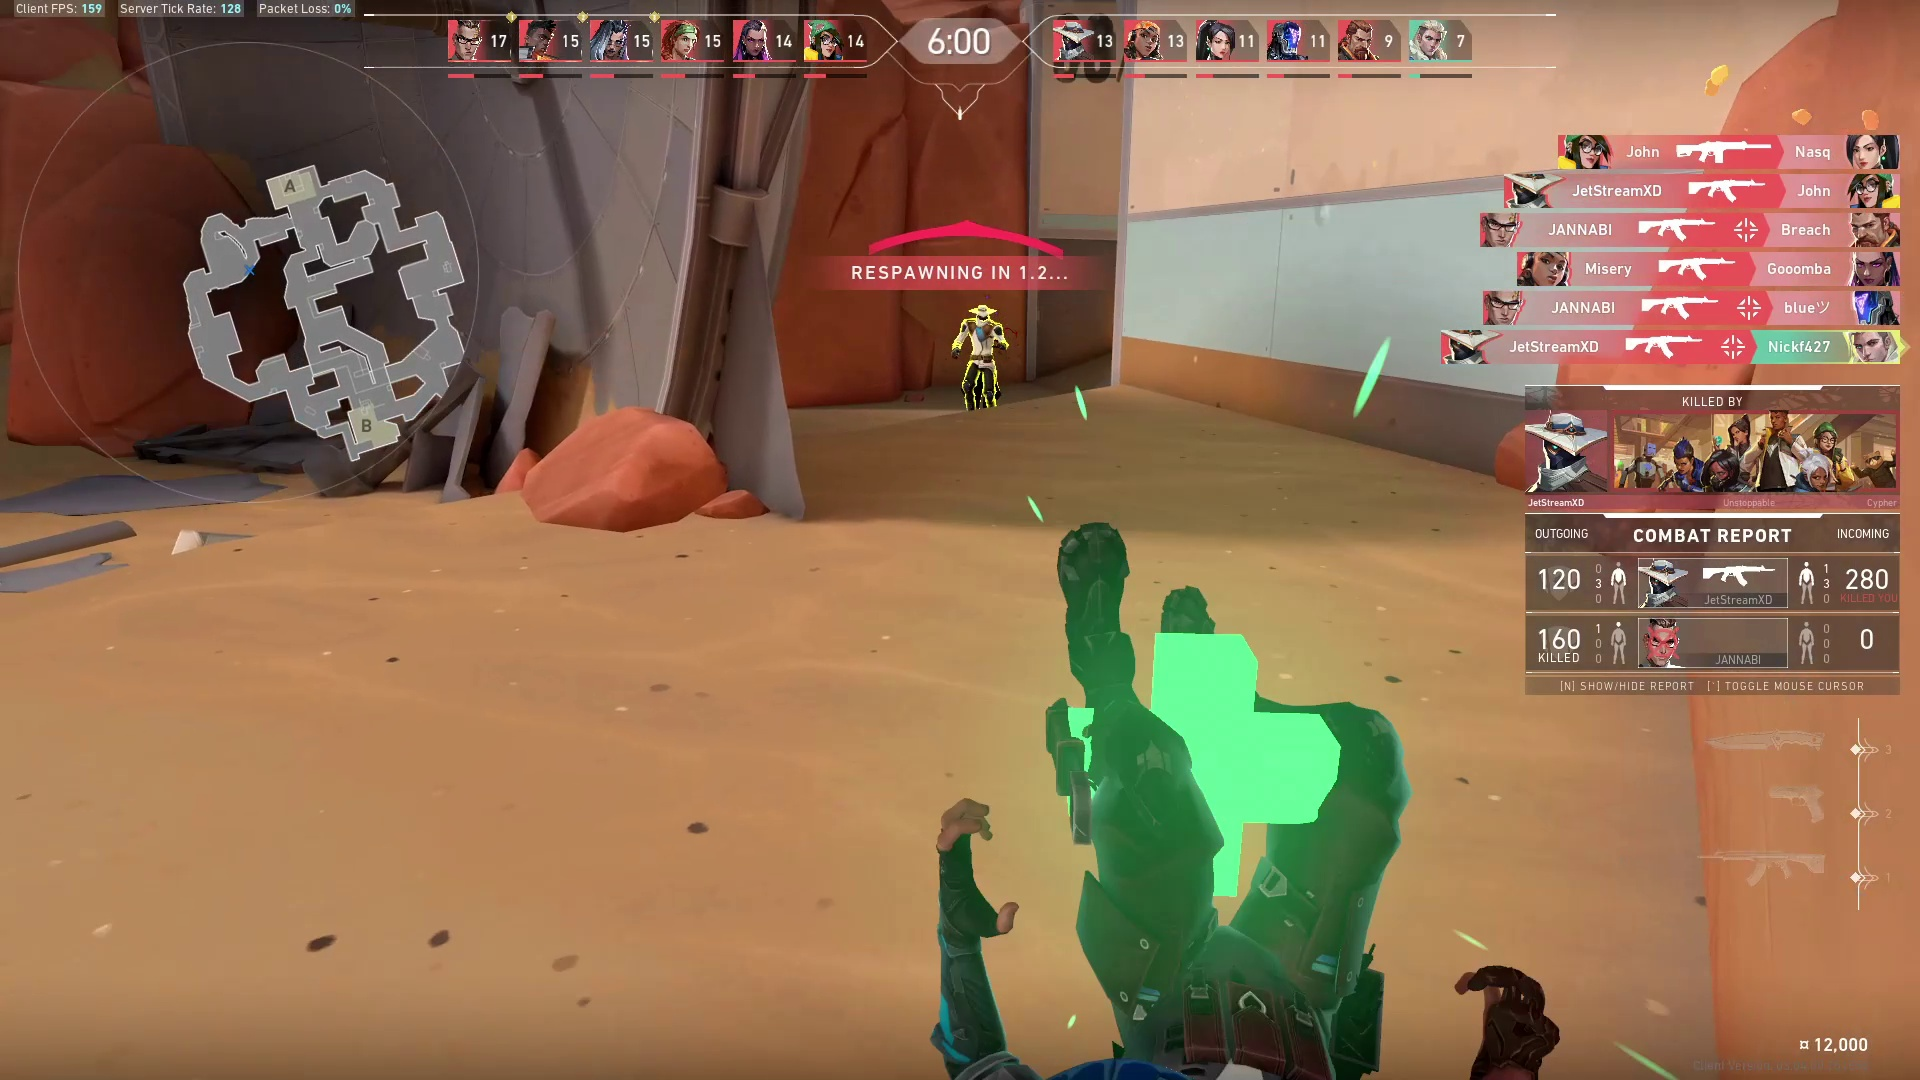enemy_body: (953, 320, 1010, 414)
enemy_head: (969, 301, 996, 322)
